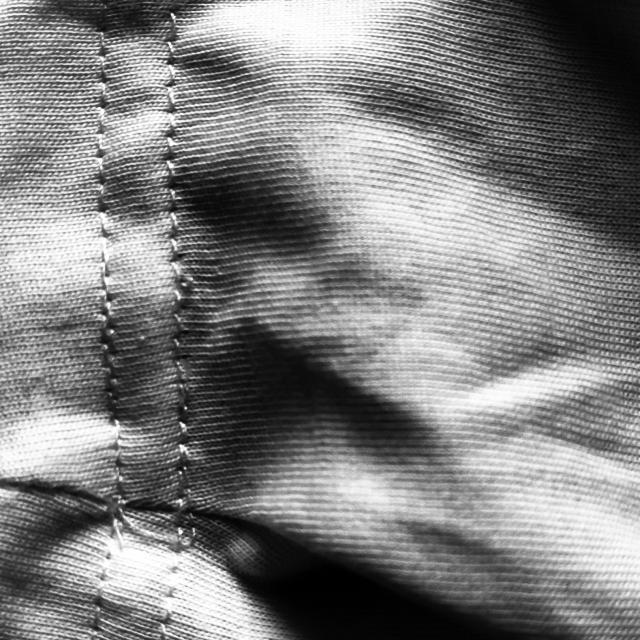Sewing_error: (100, 490, 200, 552)
